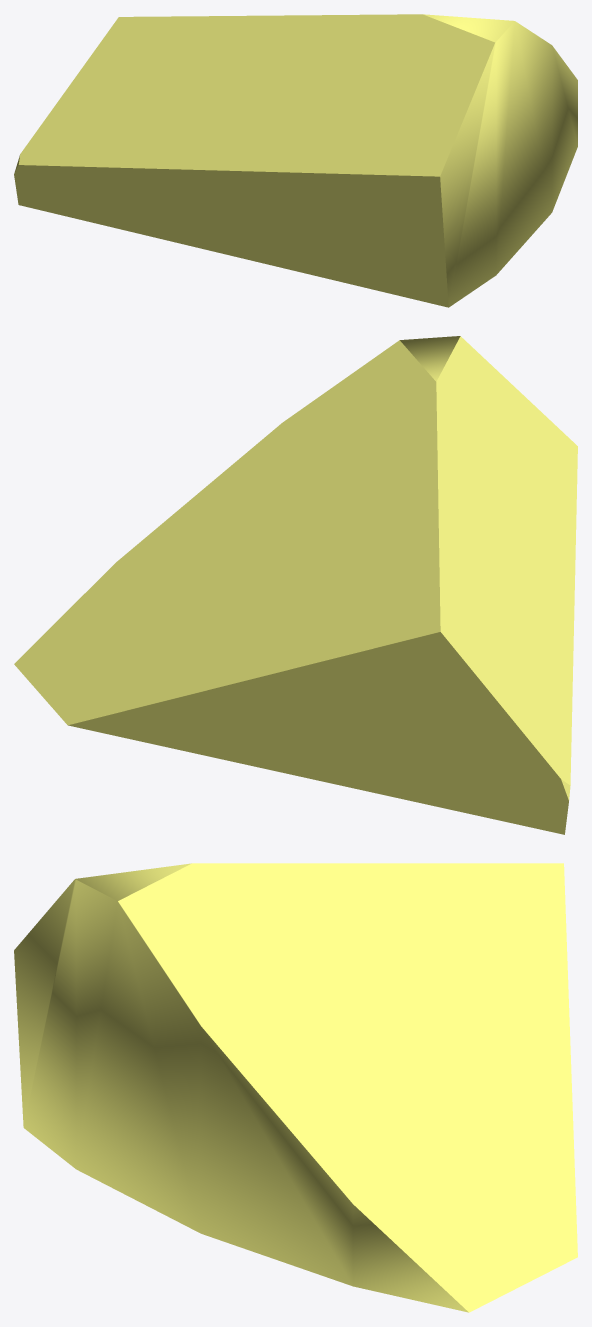
The model's file is breakableCenter_cell_015.fbx.
3 views of the same model, one above another, from view 1: azimuth 30°, elevation 25°; view 2: azimuth 150°, elevation 25°; view 3: azimuth 270°, elevation 25° (orthographic). The views are drawn at different scales.
Visible parts, largest first — view 1: breakableCenter_cell.015; view 2: breakableCenter_cell.015; view 3: breakableCenter_cell.015.
Part boxes in pixels (x1,y1,x2,y2): breakableCenter_cell.015: [14, 14, 577, 307]; breakableCenter_cell.015: [14, 336, 577, 834]; breakableCenter_cell.015: [14, 863, 577, 1312].
Size of the model in its own units: 33.4 by 14.14 by 24.96.
